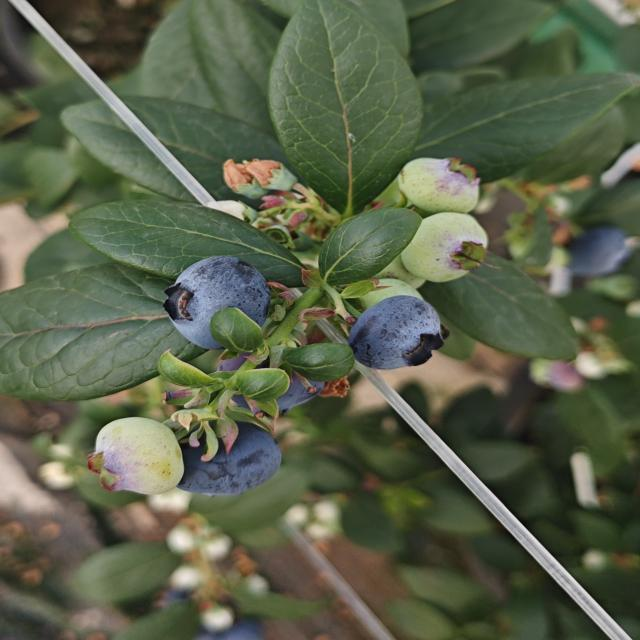ripe: (160, 254, 273, 352), (172, 416, 285, 499), (205, 338, 326, 412), (344, 294, 448, 372), (547, 222, 640, 283)
